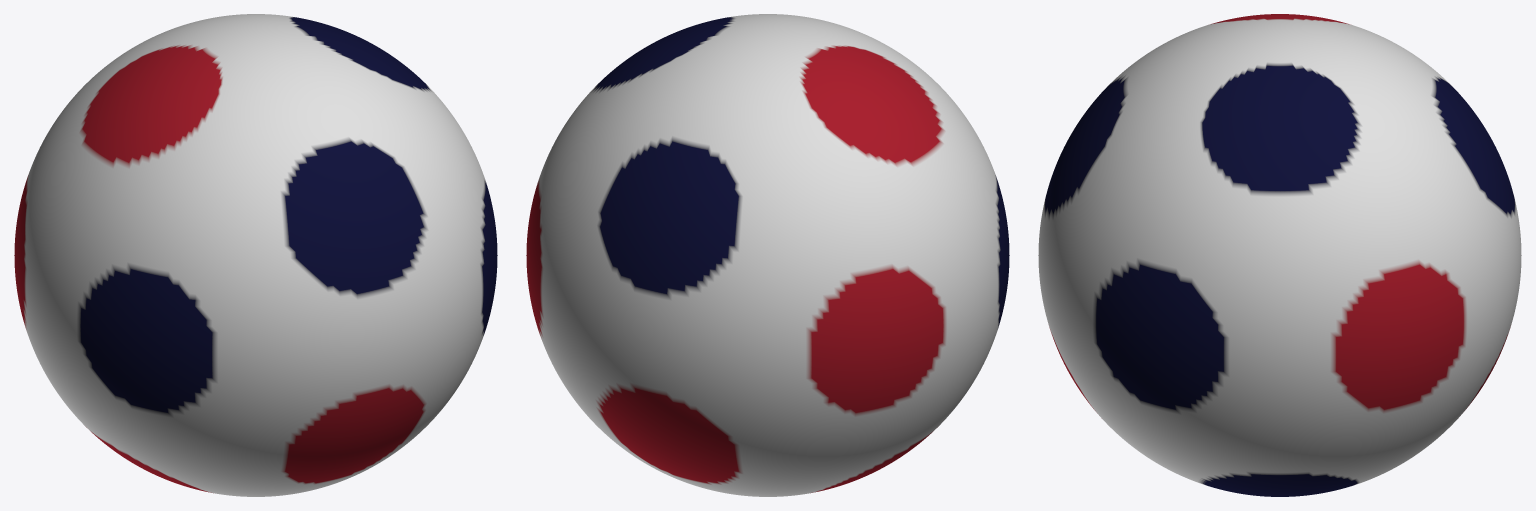
File: club-ball.glb
3 renders of one model, left to right at view 1: azimuth 30°, elevation 25°; view 2: azimuth 150°, elevation 25°; view 3: azimuth 270°, elevation 25°, orthographic.
Parts seen in each view (by area): view 1: club-ball; view 2: club-ball; view 3: club-ball.
Boxes of the visible parts, left/top/right/bottom form: club-ball: left=14, top=14, right=497, bottom=496; club-ball: left=526, top=14, right=1009, bottom=496; club-ball: left=1038, top=14, right=1521, bottom=496.
Size of the model in its own units: 2 by 2 by 2.
